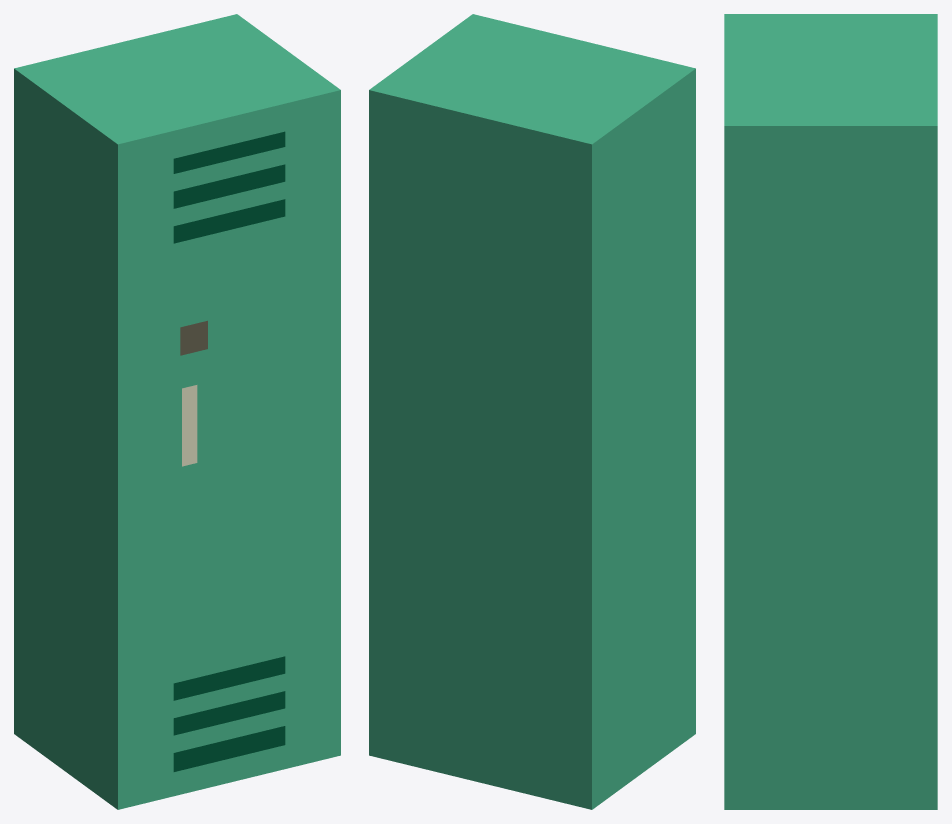
3 views of the same model, side by side, from view 1: azimuth 30°, elevation 25°; view 2: azimuth 150°, elevation 25°; view 3: azimuth 270°, elevation 25° (orthographic). The views are drawn at different scales.
Parts seen in each view (by area): view 1: guizi_3:polySurface237; view 2: guizi_3:polySurface237; view 3: guizi_3:polySurface237.
Boxes of the visible parts, bbox=[...] form: guizi_3:polySurface237: bbox=[14, 14, 340, 809]; guizi_3:polySurface237: bbox=[369, 14, 695, 809]; guizi_3:polySurface237: bbox=[724, 14, 937, 809].
Size of the model in its own units: 58.34 by 166 by 47.03.
